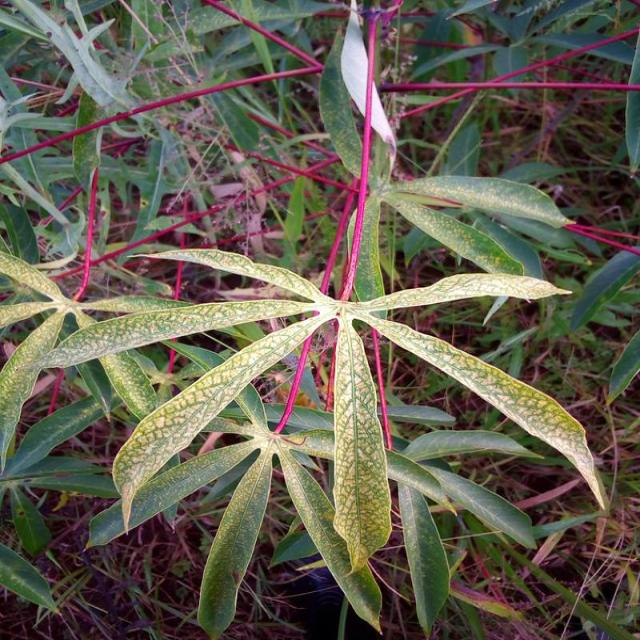cassava leaf: (2, 4, 608, 636), (330, 314, 392, 572)
